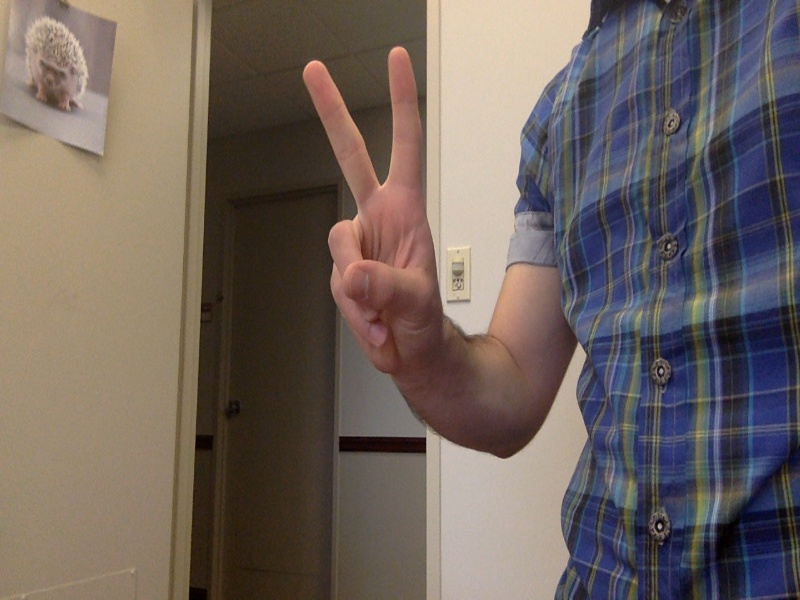2-hand: (302, 46, 444, 374)
